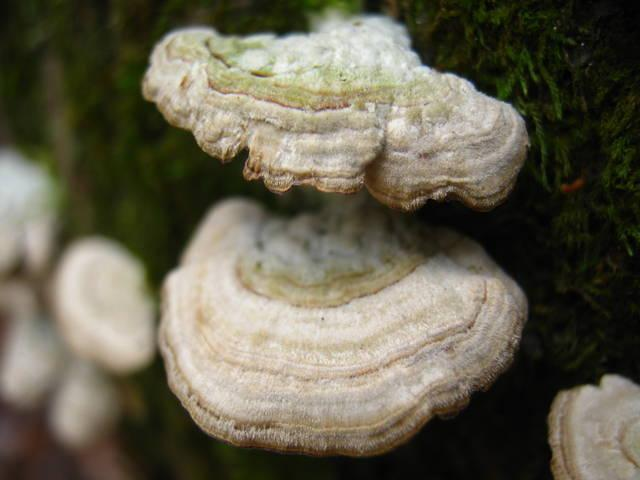poisonous_mushroom: (155, 194, 529, 458), (139, 10, 531, 213)
